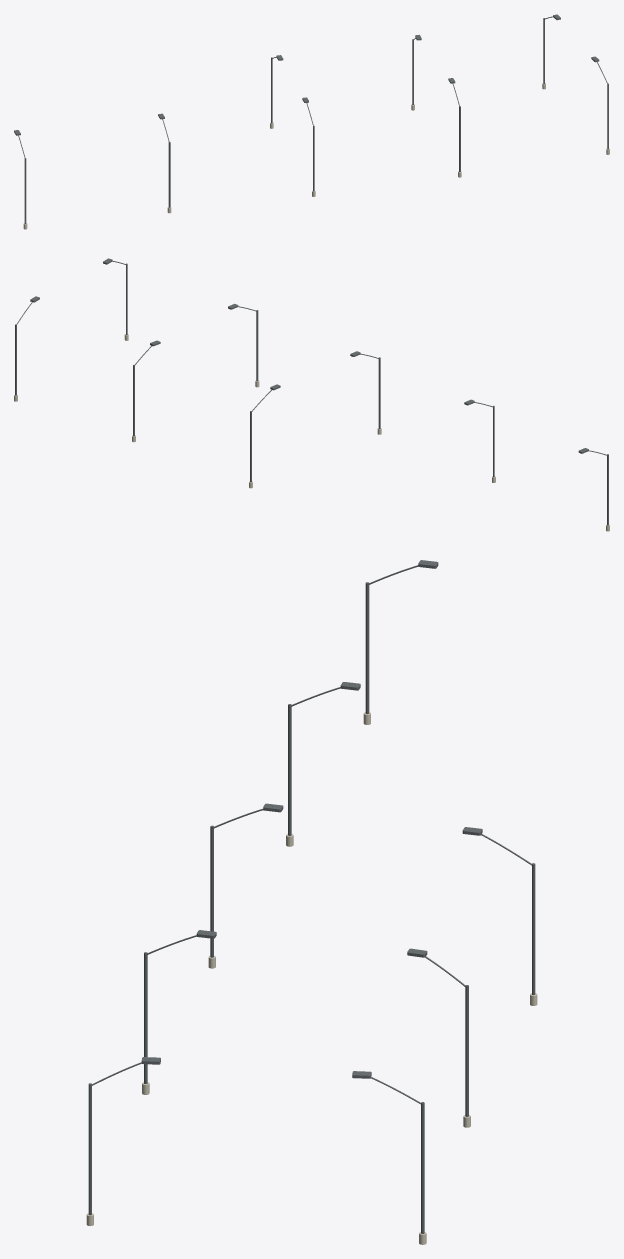
3 views of the same model, one above another, from view 1: azimuth 30°, elevation 25°; view 2: azimuth 150°, elevation 25°; view 3: azimuth 270°, elevation 25° (orthographic). The views are drawn at different scales.
Visible parts, largest first — view 1: buildings_s_-2_-3_Dark_Metal; view 2: buildings_s_-2_-3_Dark_Metal; view 3: buildings_s_-2_-3_Dark_Metal.
Boxes of the visible parts, x1,y1,x2,y2 form: buildings_s_-2_-3_Dark_Metal: (14, 14, 608, 223); buildings_s_-2_-3_Dark_Metal: (15, 258, 608, 525); buildings_s_-2_-3_Dark_Metal: (88, 560, 535, 1233).
Bounding box in the file's own units: 112 × 16.75 × 40.67.
